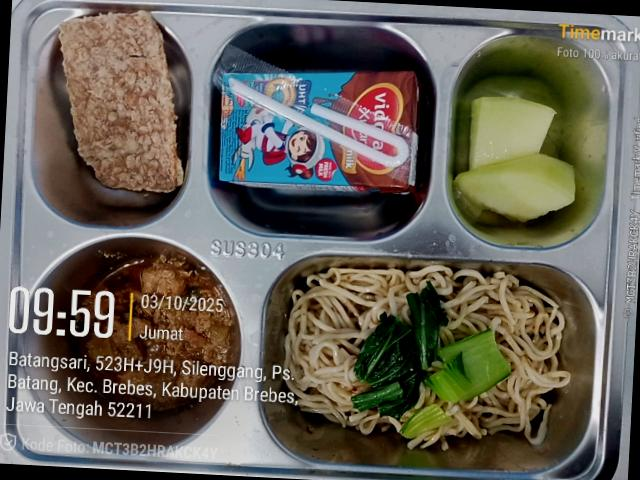ayam: (79, 298, 231, 411), (95, 256, 220, 306)
buah: (455, 97, 575, 222)
mie: (285, 269, 408, 433)
sayur: (353, 284, 511, 410)
susu: (215, 70, 421, 193)
tempe: (59, 11, 183, 192)
